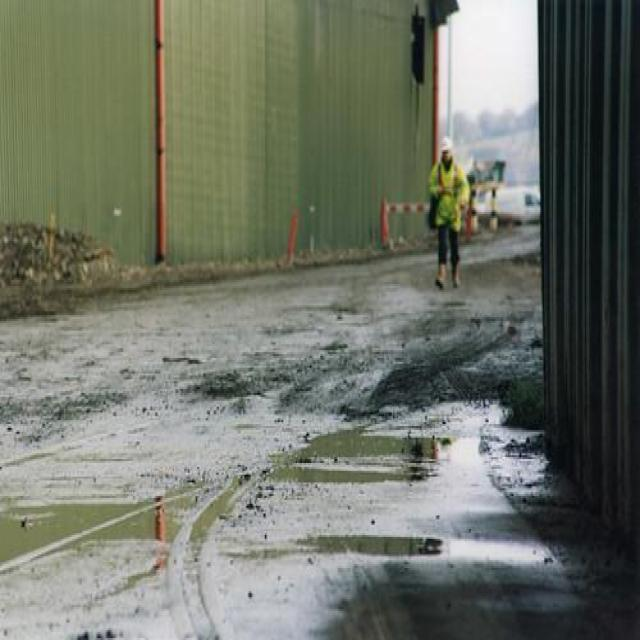Vest: (426, 160, 471, 233)
